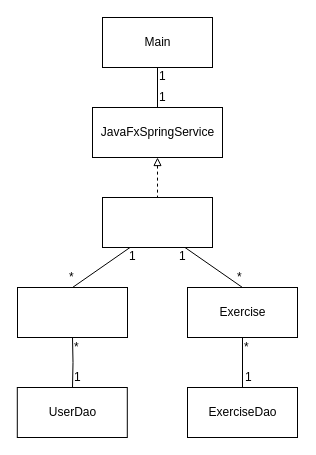
Some shapes in this 316 by 455 pixel diagram are drawn without their labels. Here are the shapes that lost their labels. From the top down, the centre of each, then its label:
(x=157, y=222): GUI
(x=72, y=312): User
